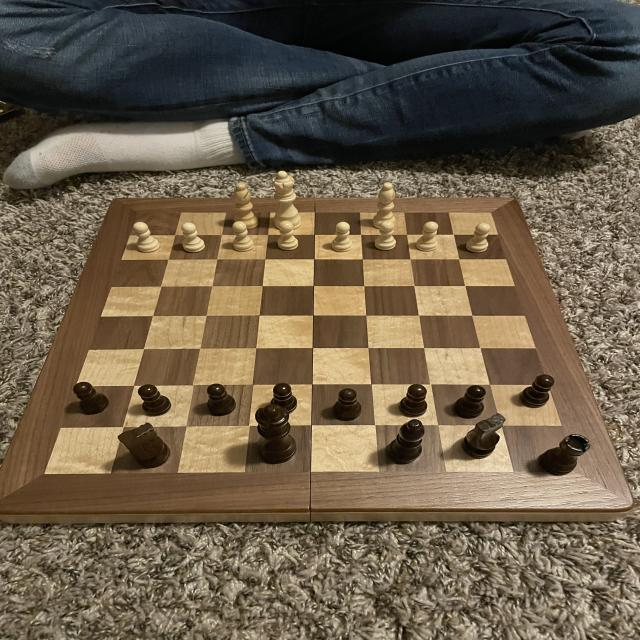bishop: (381, 418, 429, 468)
black-king: (114, 420, 174, 470), (460, 412, 505, 461)
black-knight: (70, 380, 114, 418), (515, 371, 556, 409), (330, 386, 366, 426), (134, 382, 175, 416), (451, 384, 487, 422), (202, 382, 238, 418), (397, 383, 431, 420), (268, 380, 301, 416)
black-pawn: (251, 401, 302, 468)
black-queen: (533, 430, 593, 480)
black-rook: (368, 179, 402, 231), (230, 180, 261, 231)
white-knight: (128, 219, 162, 256), (226, 220, 258, 254), (461, 222, 495, 254), (178, 220, 208, 254), (328, 222, 357, 256), (274, 217, 301, 253), (414, 220, 441, 253), (374, 220, 399, 252)
white-pawn: (268, 168, 304, 232)
